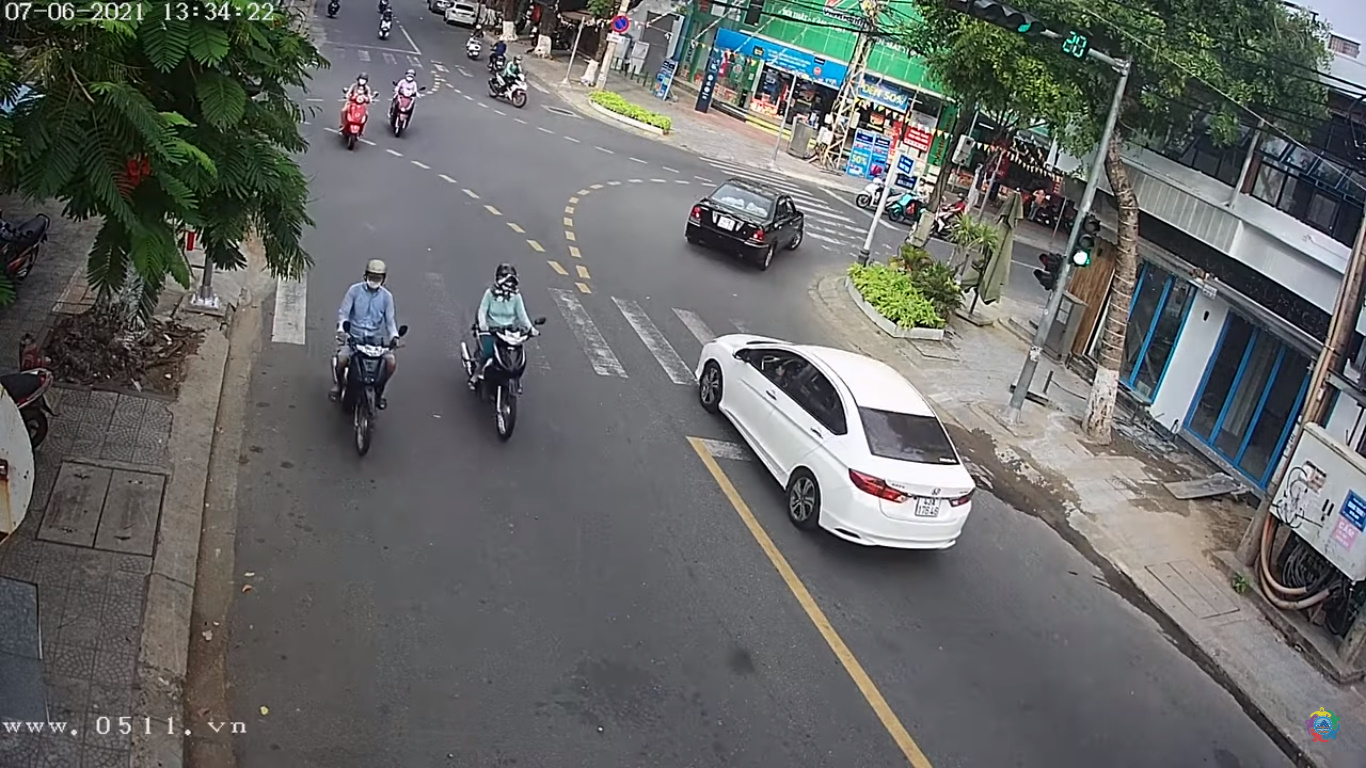motorbike: (462, 269, 550, 440), (327, 267, 403, 459)
